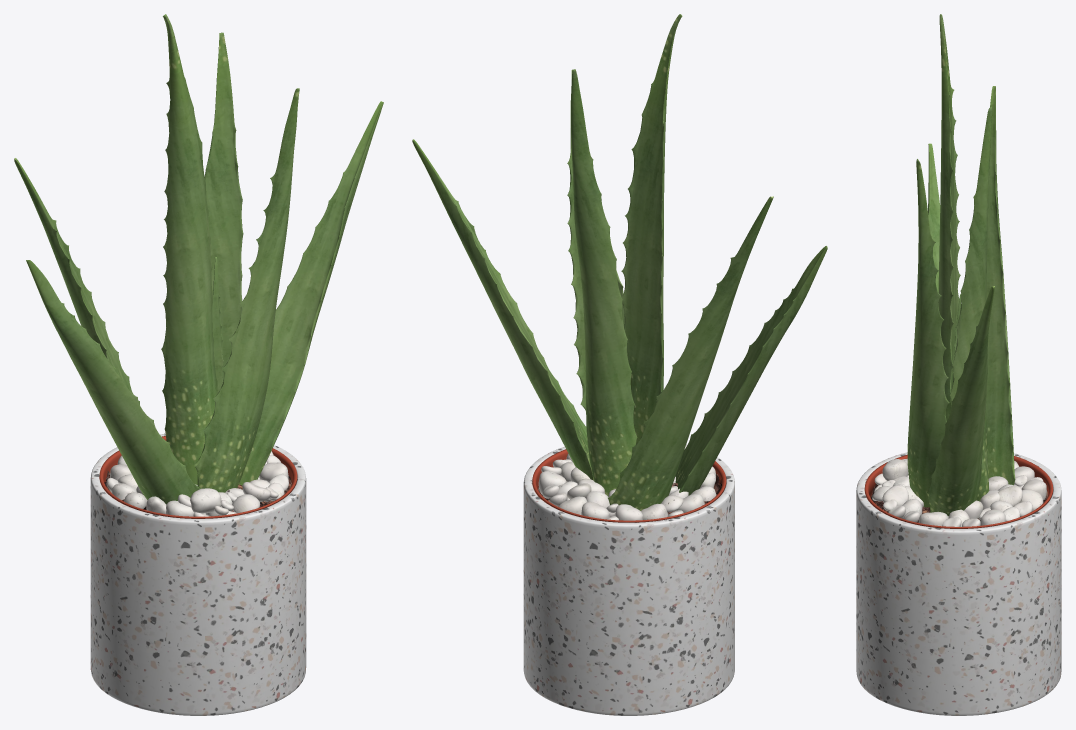
File: floor_plant_2.glb
3 views of the same model, side by side, from view 1: azimuth 30°, elevation 25°; view 2: azimuth 150°, elevation 25°; view 3: azimuth 270°, elevation 25° (orthographic). The views are drawn at different scales.
Parts seen in each view (by area): view 1: aloe_1, pot1, rock, pot2; view 2: aloe_1, pot1, rock, pot2; view 3: pot1, aloe_1, rock, pot2.
Boxes of the visible parts, <box> form: aloe_1: <box>14,14,383,504</box>; pot1: <box>90,433,306,715</box>; rock: <box>106,451,288,516</box>; pot2: <box>99,436,297,518</box>; aloe_1: <box>412,14,827,510</box>; pot1: <box>523,444,734,715</box>; rock: <box>538,445,716,520</box>; pot2: <box>532,449,726,522</box>; pot1: <box>856,452,1061,715</box>; aloe_1: <box>907,14,1015,516</box>; rock: <box>872,458,1046,526</box>; pot2: <box>864,454,1053,528</box>.
Bounding box in the file's own units: 0.6377 × 1.05 × 0.3065.
5 materials, 4 textured.
